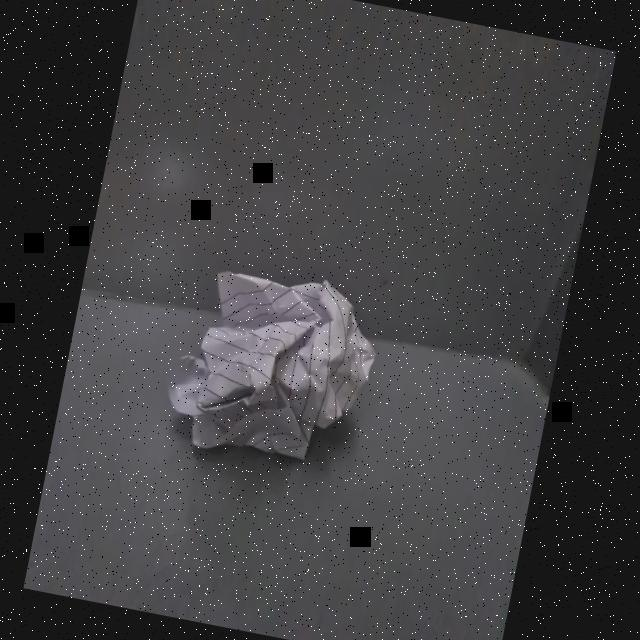scrap_paper: (156, 250, 393, 482)
